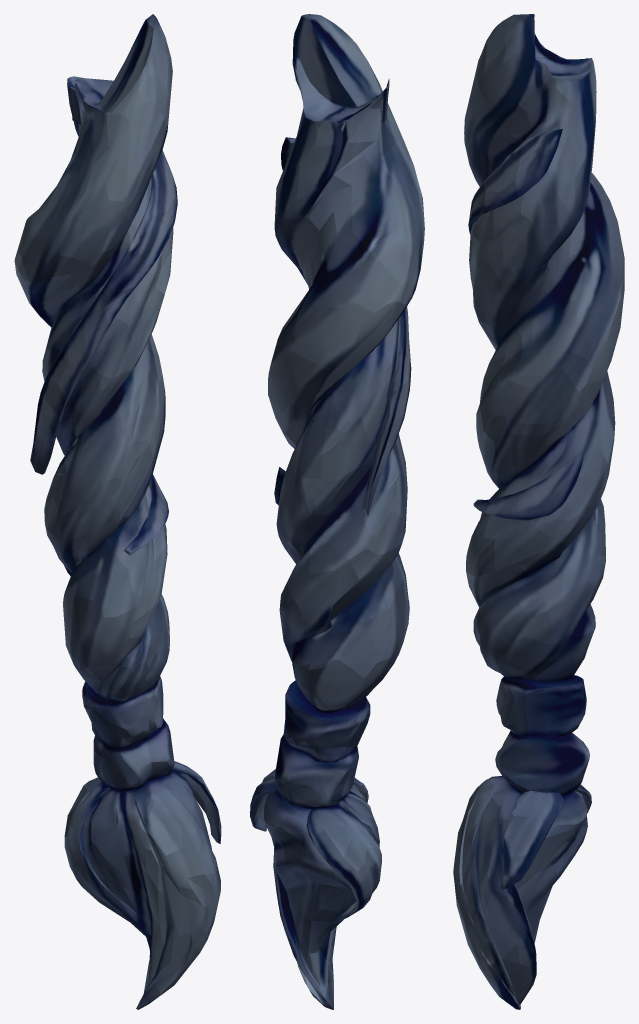
File: nerith_m-meche-6-meches-torsadees.glb
The picture shows the model from 3 angles, left to right: view 1: azimuth 30°, elevation 25°; view 2: azimuth 150°, elevation 25°; view 3: azimuth 270°, elevation 25°; orthographic projection. The views are drawn at different scales.
Visible parts, largest first — view 1: geometry_0; view 2: geometry_0; view 3: geometry_0.
Boxes of the visible parts, left/top/right/bottom form: geometry_0: left=14, top=14, right=221, bottom=1009; geometry_0: left=250, top=14, right=424, bottom=1009; geometry_0: left=453, top=14, right=624, bottom=1009.
Bounding box in the file's own units: 0.3501 × 1.9 × 0.2943.
1 material, 1 textured.
